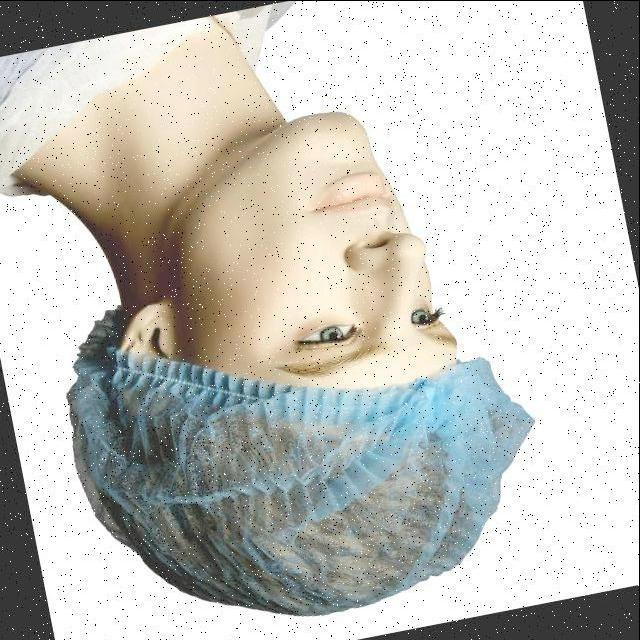gloves: (27, 349, 533, 635)
no_hairnet: (248, 124, 397, 290)
